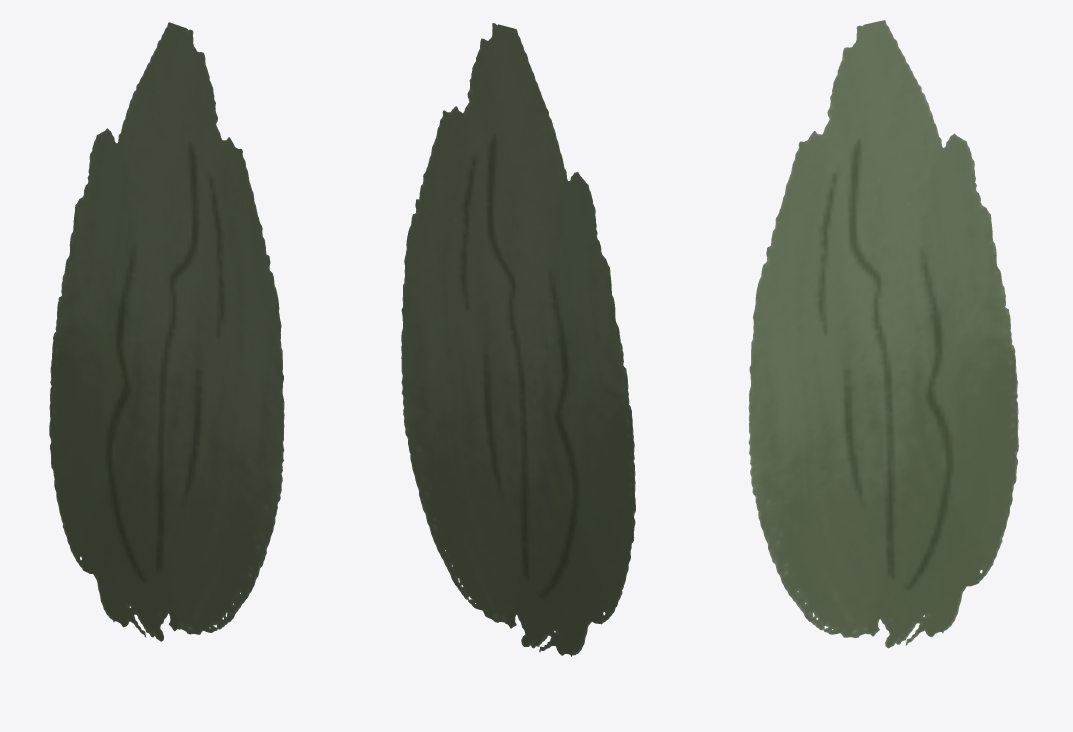
File: tree2.fbx
The picture shows the model from 3 angles, left to right: view 1: azimuth 30°, elevation 25°; view 2: azimuth 210°, elevation 25°; view 3: azimuth 270°, elevation 25°; orthographic projection. The views are drawn at different scales.
Visible parts, largest first — view 1: tree2; view 2: tree2; view 3: tree2.
Part boxes in pixels (x1,y1,x2,y2): tree2: (49, 22, 284, 641); tree2: (401, 23, 635, 656); tree2: (748, 20, 1018, 648).
Bounding box in the file's own units: 140 × 649 × 309.
